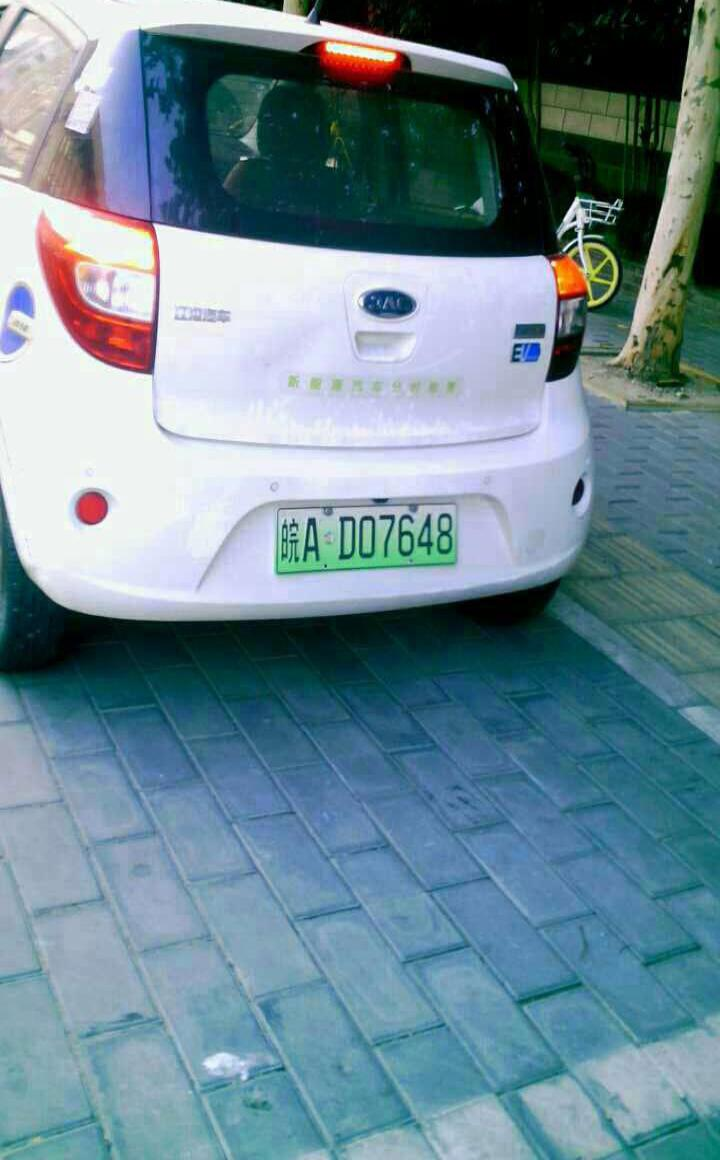car: (272, 505, 461, 568)
